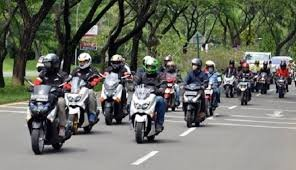motor: (27, 85, 65, 151), (129, 84, 162, 141), (99, 74, 129, 125), (62, 82, 93, 131), (179, 83, 205, 127), (234, 78, 253, 104)
